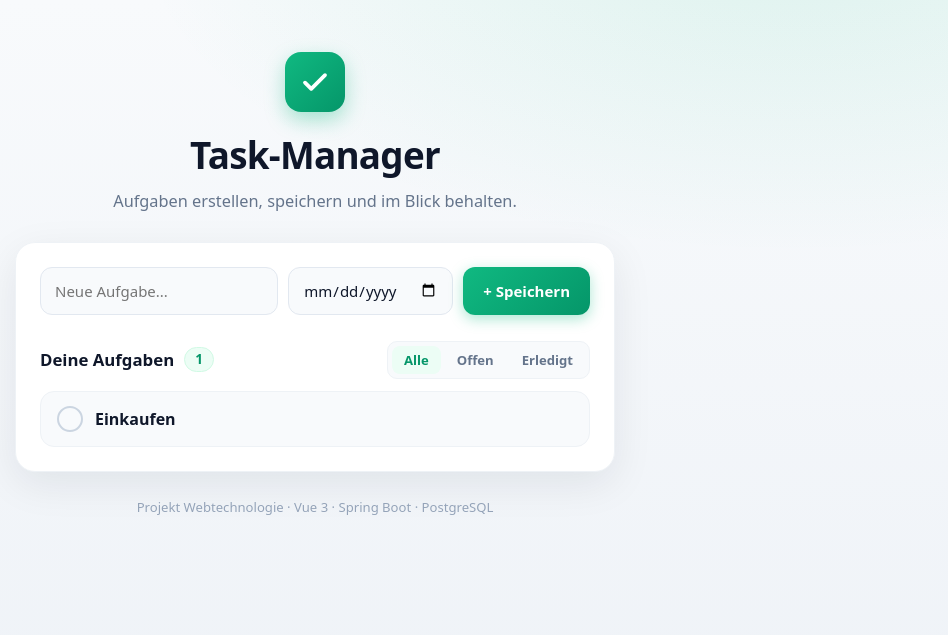
Test: TaskList › entfernt eine Aufgabe erst nach Bestaetigung der Rueckfrage
Click the list item with class "task-item" at [315, 419], box [40, 391, 590, 447]
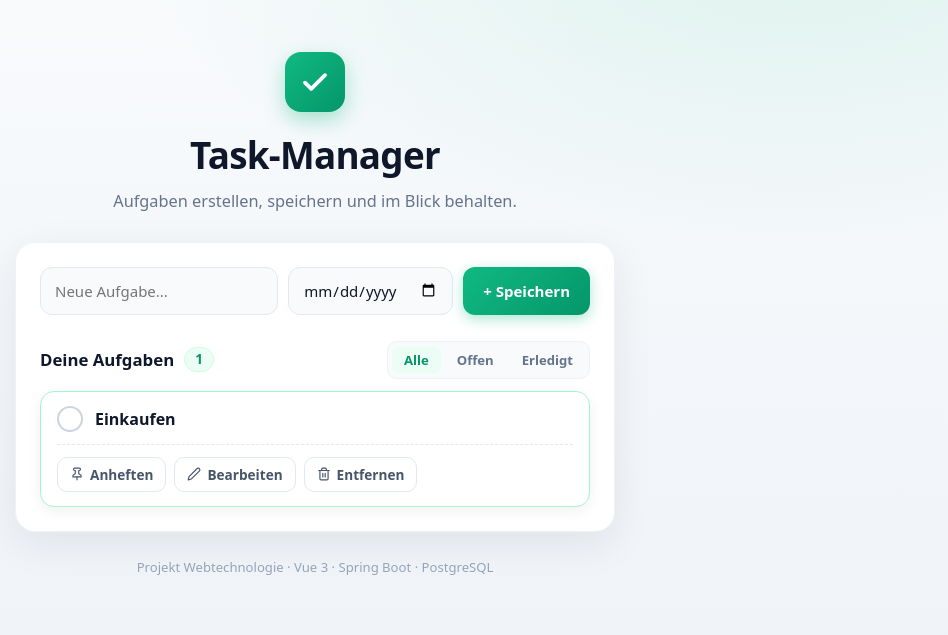
Click the button "Entfernen" at [360, 474], box [304, 457, 417, 492]
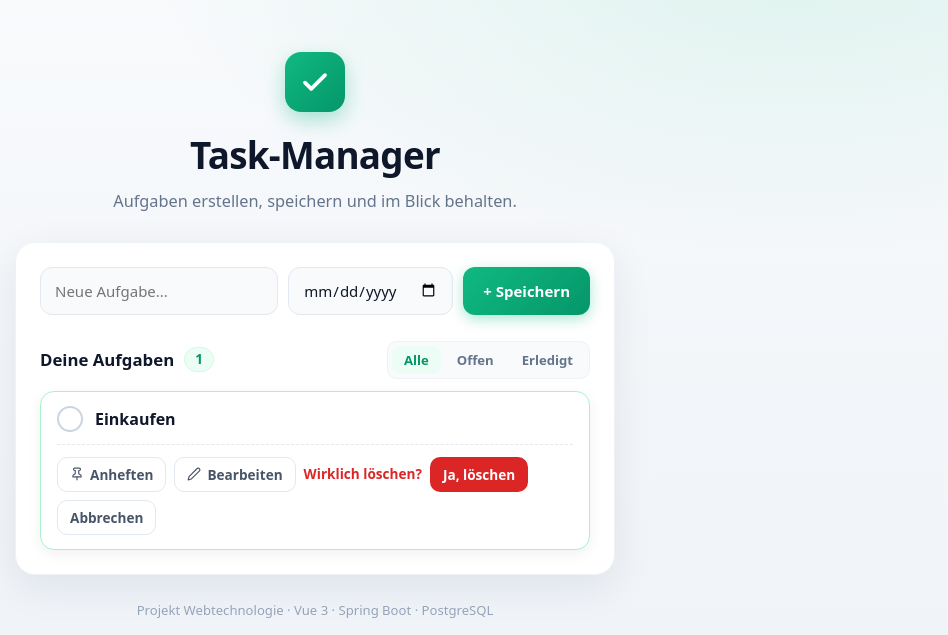
Now the text "Wirklich löschen?" is shown, box [304, 464, 422, 484]
Click the button "Ja, löschen" at [479, 474], box [430, 457, 528, 492]
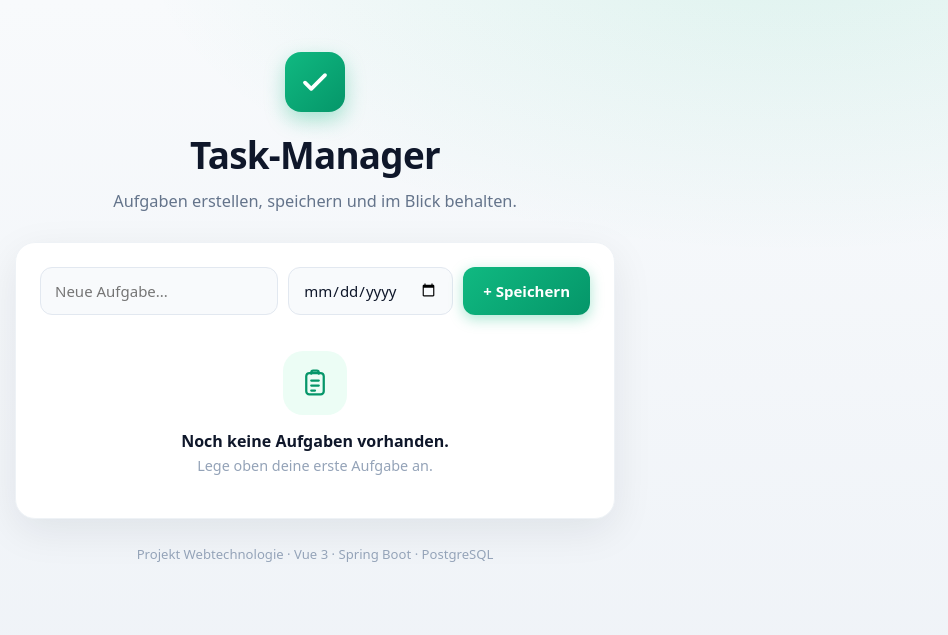
Now no list items with class "task-item" are shown
